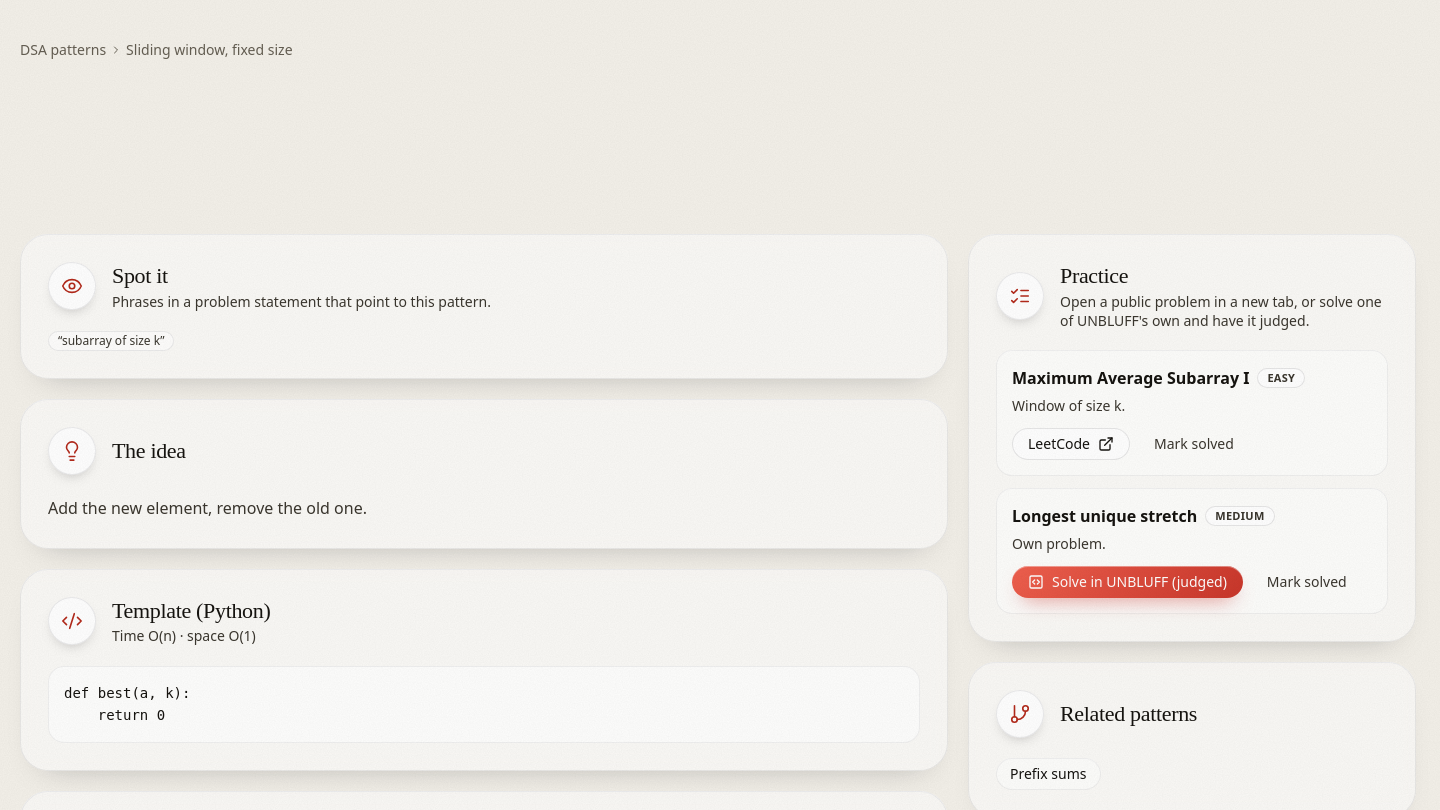
Test case: learn: patterns › marks a problem solved for a signed-in student and shows the saved state
This screenshot has width=1440, height=810.
Click the button "Mark solved" next to "LeetCode". click: (1194, 444)
box: [1138,428,1250,460]
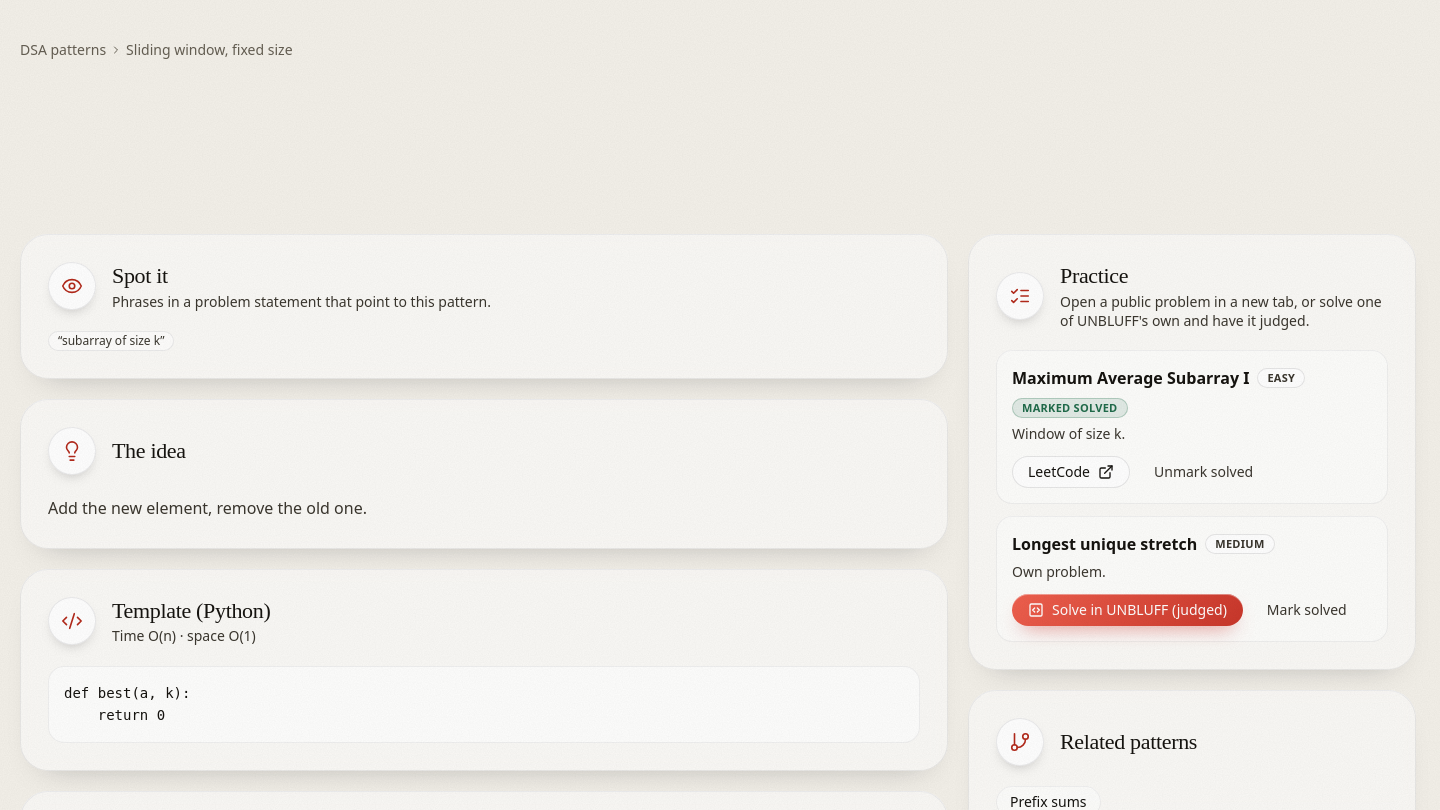
Expected: the text "Marked solved" is shown, [1012,398,1128,418]
